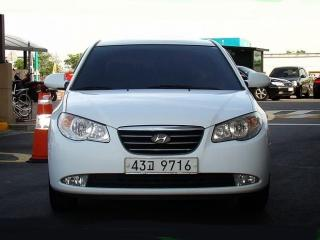1: (176, 160, 183, 171)
3: (139, 160, 146, 171)
4: (131, 159, 139, 172)
6: (184, 160, 192, 171)
7: (168, 159, 176, 171)
9: (160, 159, 168, 172)
plate: (120, 155, 205, 177)
고: (146, 160, 155, 171)
